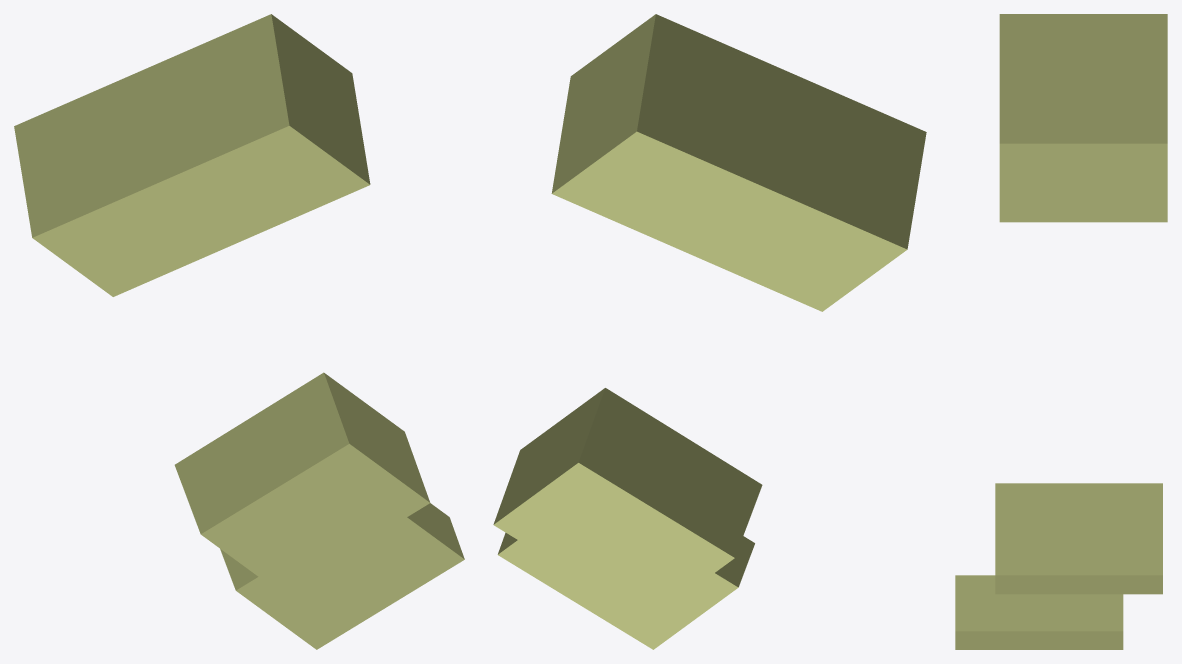
The picture shows the model from 3 angles, left to right: view 1: azimuth 30°, elevation 25°; view 2: azimuth 150°, elevation 25°; view 3: azimuth 270°, elevation 25°; orthographic projection. The views are drawn at different scales.
Visible parts, largest first — view 1: 0_1_3_2_1_1_1_1_2; view 2: 0_1_3_2_1_1_1_1_2; view 3: 0_1_3_2_1_1_1_1_2.
Part boxes in pixels (bbox=[...]): 0_1_3_2_1_1_1_1_2: bbox=[14, 14, 464, 649]; 0_1_3_2_1_1_1_1_2: bbox=[493, 14, 926, 649]; 0_1_3_2_1_1_1_1_2: bbox=[955, 14, 1167, 649].
Bounding box in the file's own units: 22.35 × 33.54 × 11.39.
